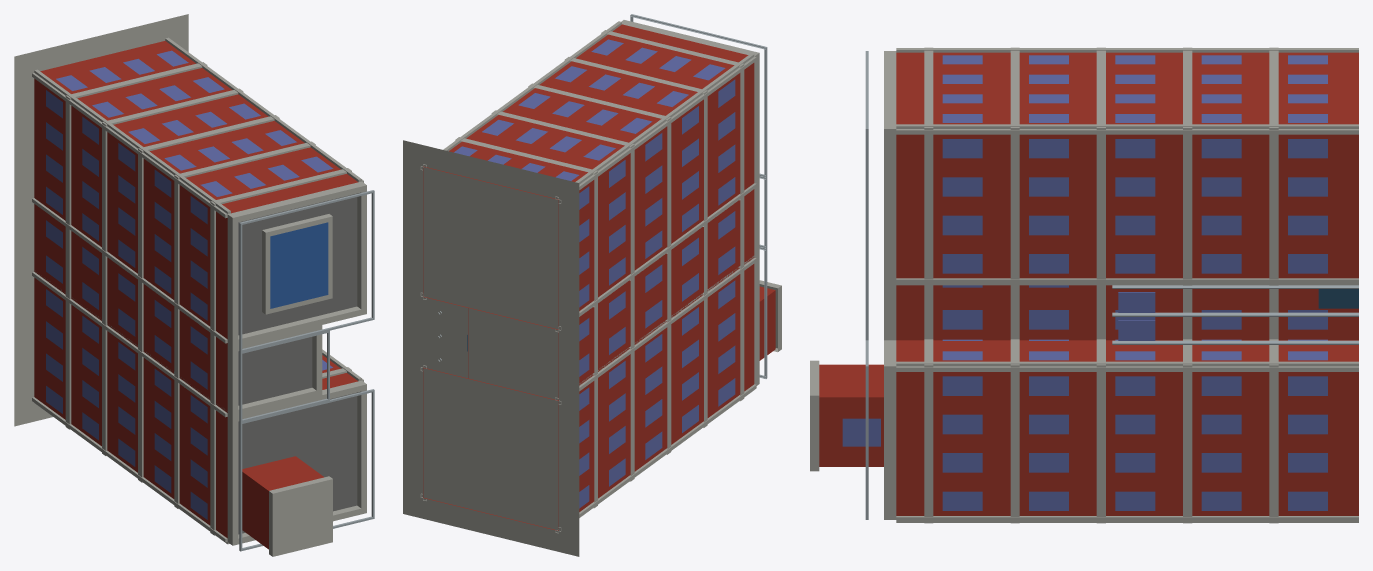
Rendered from complete.glb.
3 renders of one model, left to right at view 1: azimuth 30°, elevation 25°; view 2: azimuth 150°, elevation 25°; view 3: azimuth 270°, elevation 25°, orthographic. The views are drawn at different scales.
Visible parts, largest first — view 1: complete; view 2: complete; view 3: complete.
Part boxes in pixels (left/top/right/bottom): complete: left=14, top=14, right=374, bottom=556; complete: left=403, top=14, right=781, bottom=556; complete: left=810, top=47, right=1358, bottom=523.
Size of the model in its own units: 15.6 by 31.6 by 35.6.
